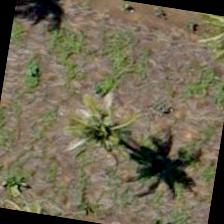Kelapa_Sawit: (39, 68, 142, 171), (172, 9, 223, 65)
